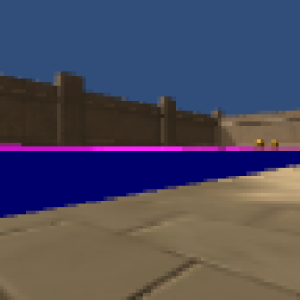goodGoalMulti: (254, 136, 265, 147), (270, 138, 281, 149)
platform: (1, 150, 300, 217)
ramp: (1, 143, 300, 152)
